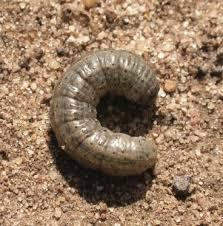caterpillars: (26, 36, 197, 201)
